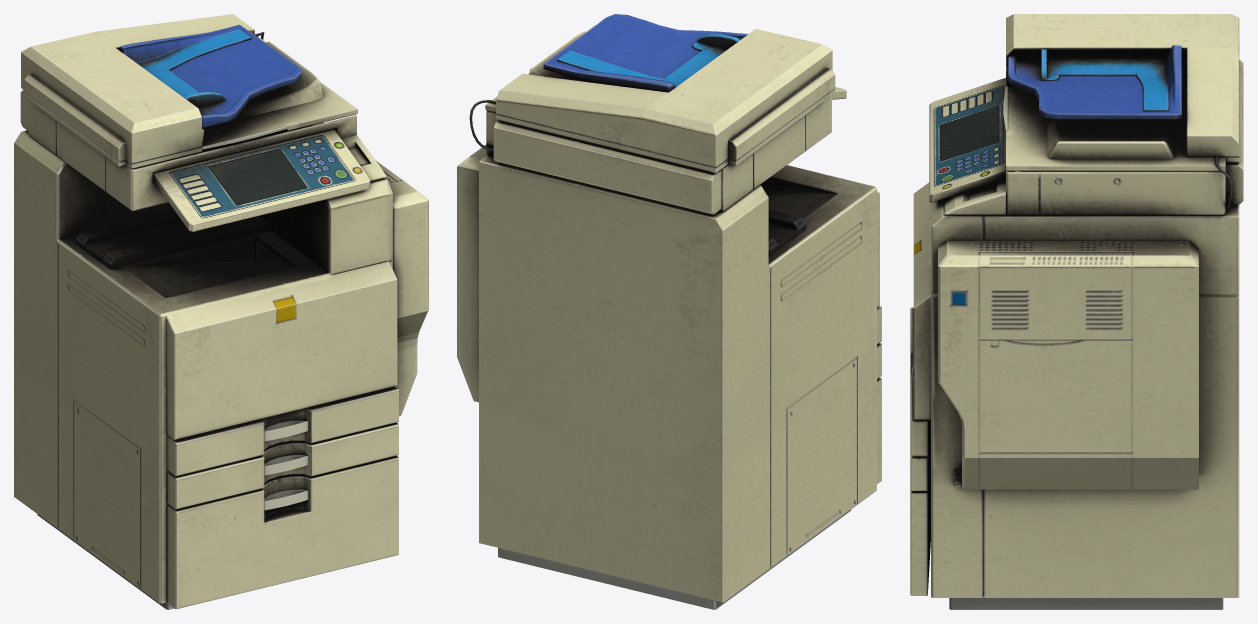
The model's file is printer.glb.
3 renders of one model, left to right at view 1: azimuth 30°, elevation 25°; view 2: azimuth 150°, elevation 25°; view 3: azimuth 270°, elevation 25°, orthographic. The views are drawn at different scales.
Parts seen in each view (by area): view 1: OfficePrinter_Printer_0; view 2: OfficePrinter_Printer_0; view 3: OfficePrinter_Printer_0.
Boxes of the visible parts, x1,y1,x2,y2 form: OfficePrinter_Printer_0: (14,14,428,609); OfficePrinter_Printer_0: (457,14,881,609); OfficePrinter_Printer_0: (910,14,1243,609).
Bounding box in the file's own units: 1.28 × 2.09 × 1.28.
Materials: 1 (1 with a texture image).
